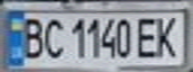0: (115, 15, 136, 60)
1: (66, 15, 87, 58), (84, 15, 103, 58)
4: (100, 15, 118, 58)
B: (15, 15, 48, 61)
C: (39, 15, 66, 60)
E: (133, 15, 160, 60)
K: (151, 12, 184, 60)
